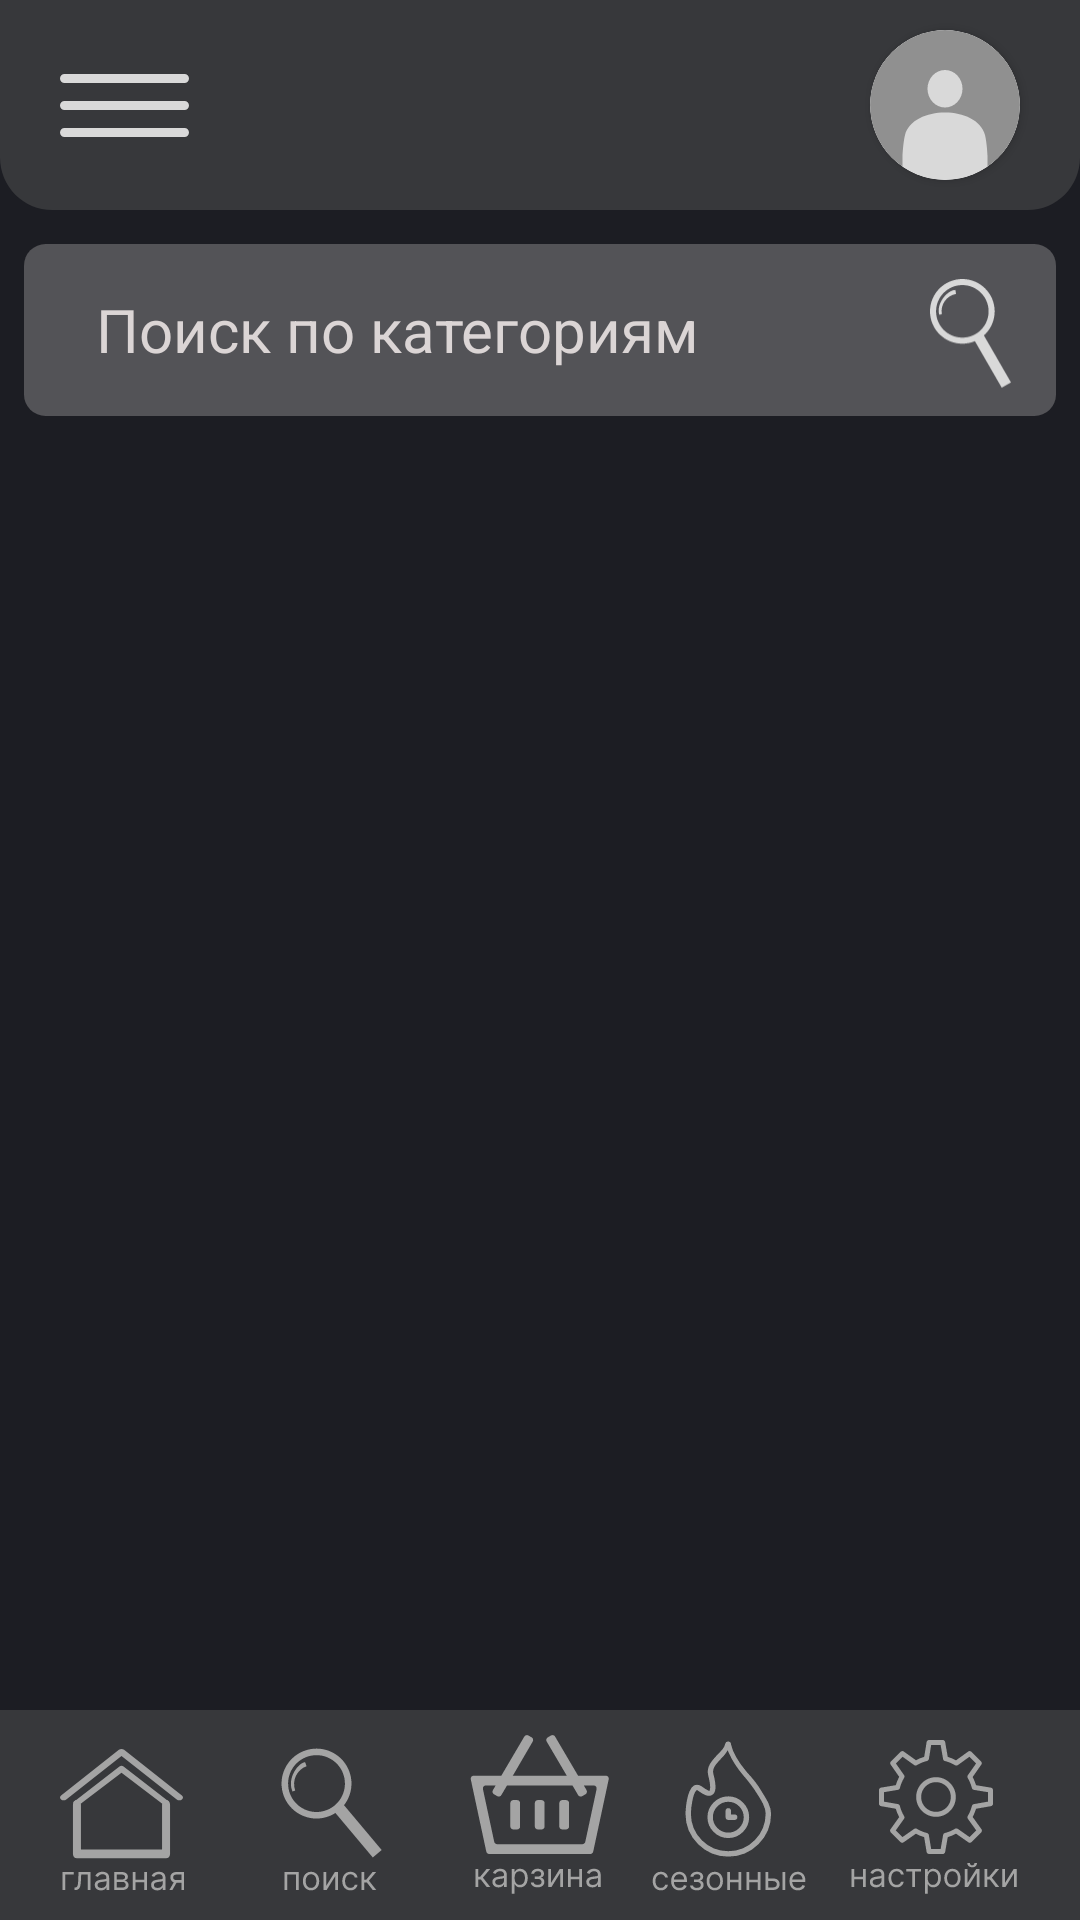

Point at icon controls on the screen. Image size 1080x1920, points as [x,y].
avatarka: [945,105]
menu: [124,105]
